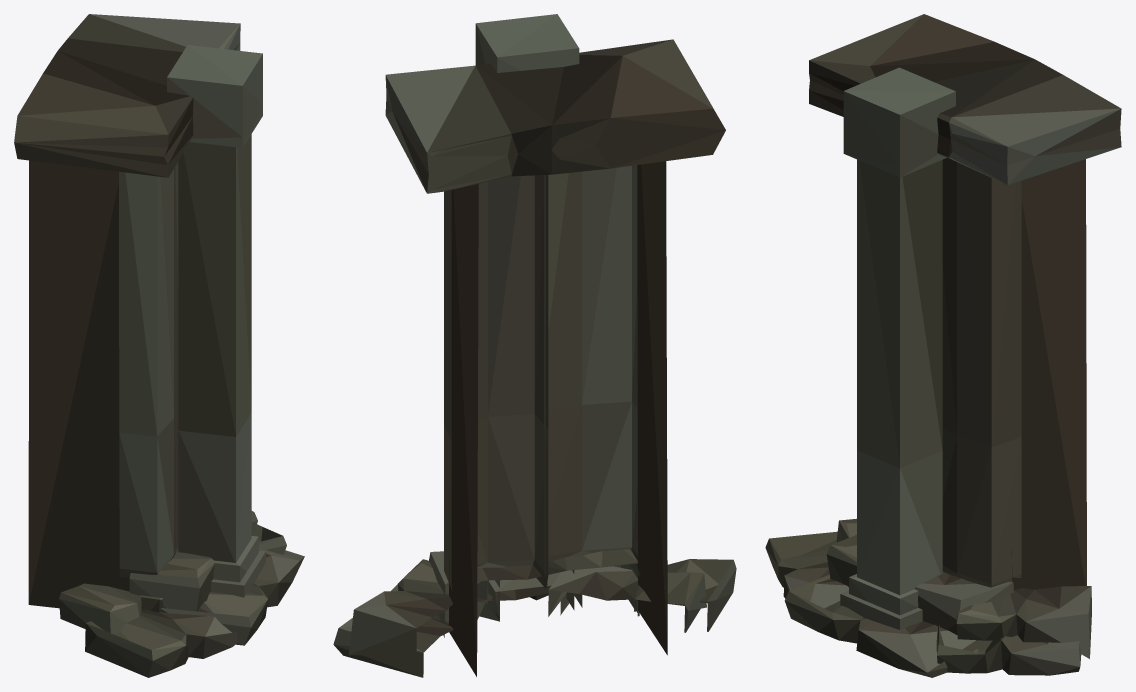
The model's file is wall_A_corner_inside.fbx.
3 views of the same model, side by side, from view 1: azimuth 30°, elevation 25°; view 2: azimuth 150°, elevation 25°; view 3: azimuth 270°, elevation 25° (orthographic). The views are drawn at different scales.
Visible parts, largest first — view 1: wall_A_corner_inside; view 2: wall_A_corner_inside; view 3: wall_A_corner_inside.
Part boxes in pixels (x1,y1,x2,y2): wall_A_corner_inside: [14, 14, 304, 677]; wall_A_corner_inside: [333, 14, 736, 677]; wall_A_corner_inside: [765, 14, 1121, 677].
Bounding box in the file's own units: 3.73 × 6.43 × 3.84.
